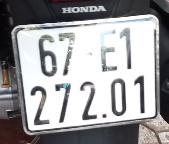0: (108, 77, 128, 117)
1: (120, 26, 135, 73), (133, 74, 149, 116)
2: (29, 84, 50, 126), (78, 80, 98, 121)
6: (36, 33, 58, 78)
7: (57, 32, 78, 79), (54, 82, 72, 124)
E: (99, 27, 119, 75)
